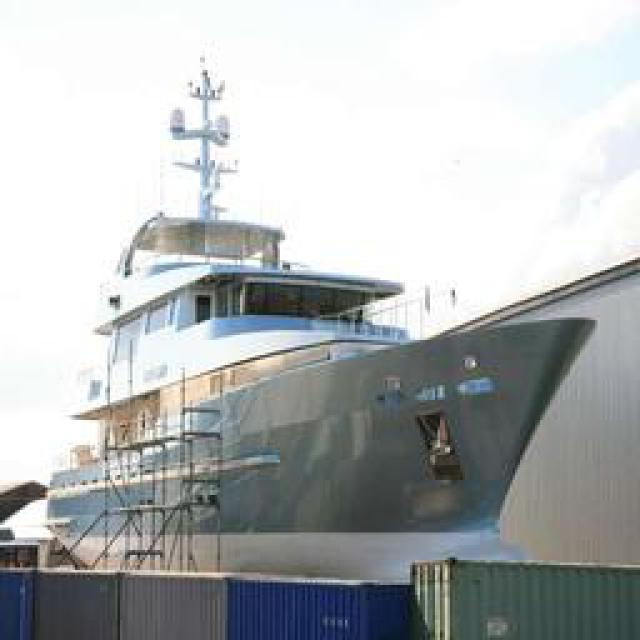Ship: (33, 236, 601, 609)
